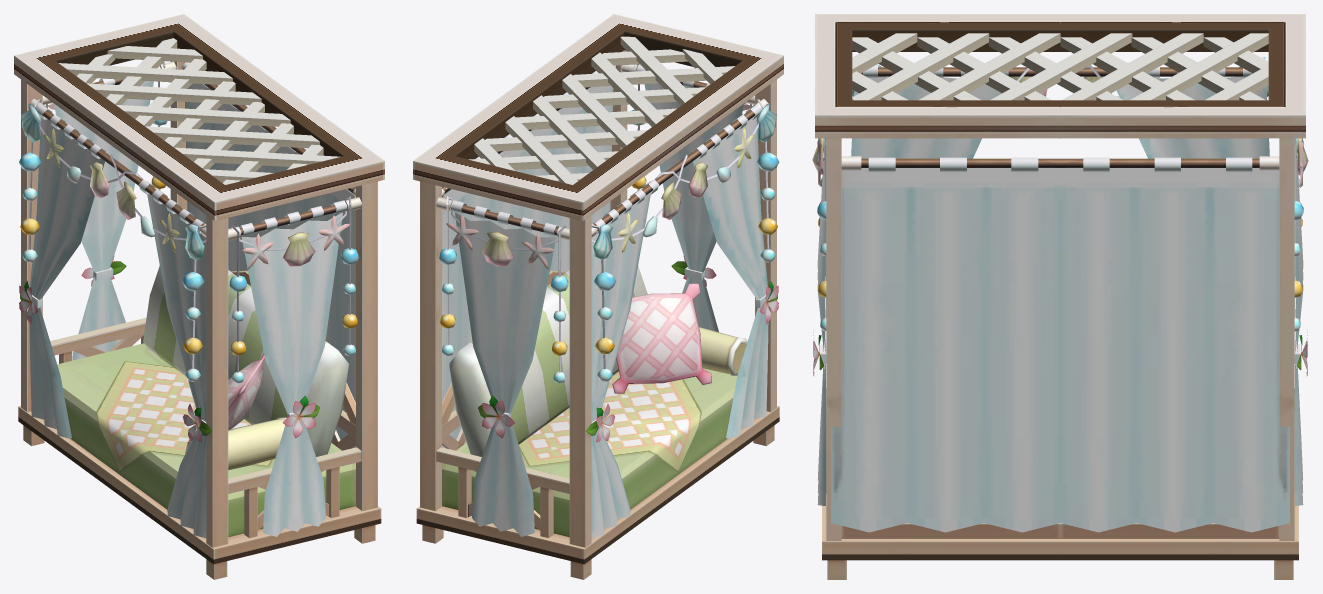
File: my_sunshineresort_01_bed_02.glb
The picture shows the model from 3 angles, left to right: view 1: azimuth 30°, elevation 25°; view 2: azimuth 150°, elevation 25°; view 3: azimuth 270°, elevation 25°; orthographic projection. The views are drawn at different scales.
Visible parts, largest first — view 1: my_sunshineresort_01_bed_02; view 2: my_sunshineresort_01_bed_02; view 3: my_sunshineresort_01_bed_02.
Part boxes in pixels (left/top/right/bottom): my_sunshineresort_01_bed_02: left=14, top=14, right=384, bottom=579; my_sunshineresort_01_bed_02: left=413, top=14, right=783, bottom=579; my_sunshineresort_01_bed_02: left=812, top=14, right=1308, bottom=579.
Bounding box in the file's own units: 0.00764 × 0.0151 × 0.0145.
Materials: 2 (2 with a texture image).
